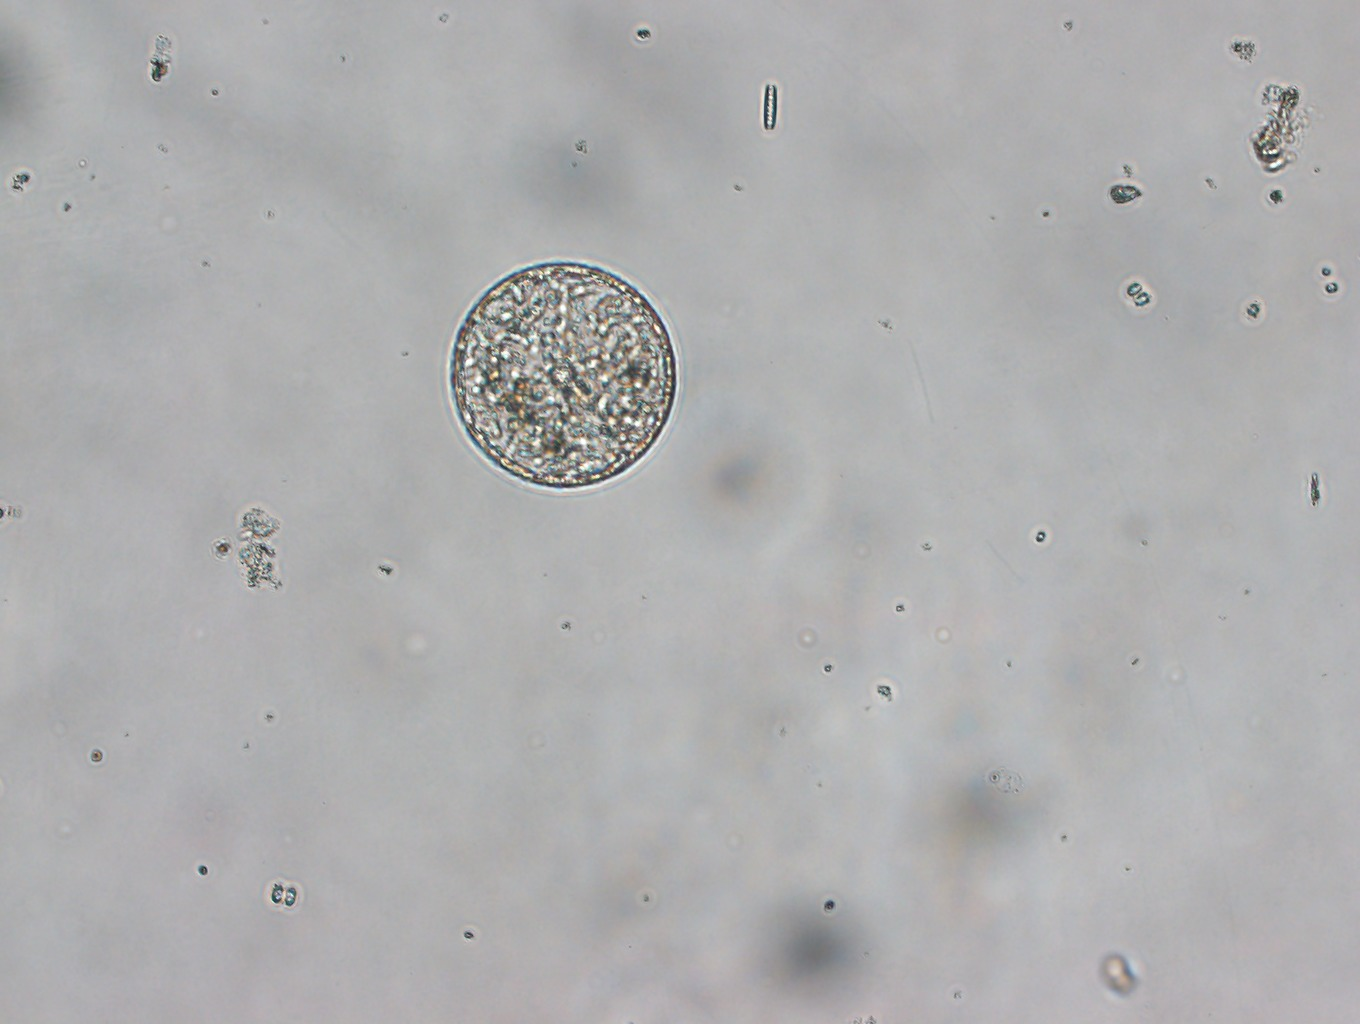coscinodiscus: (441, 252, 685, 495)
